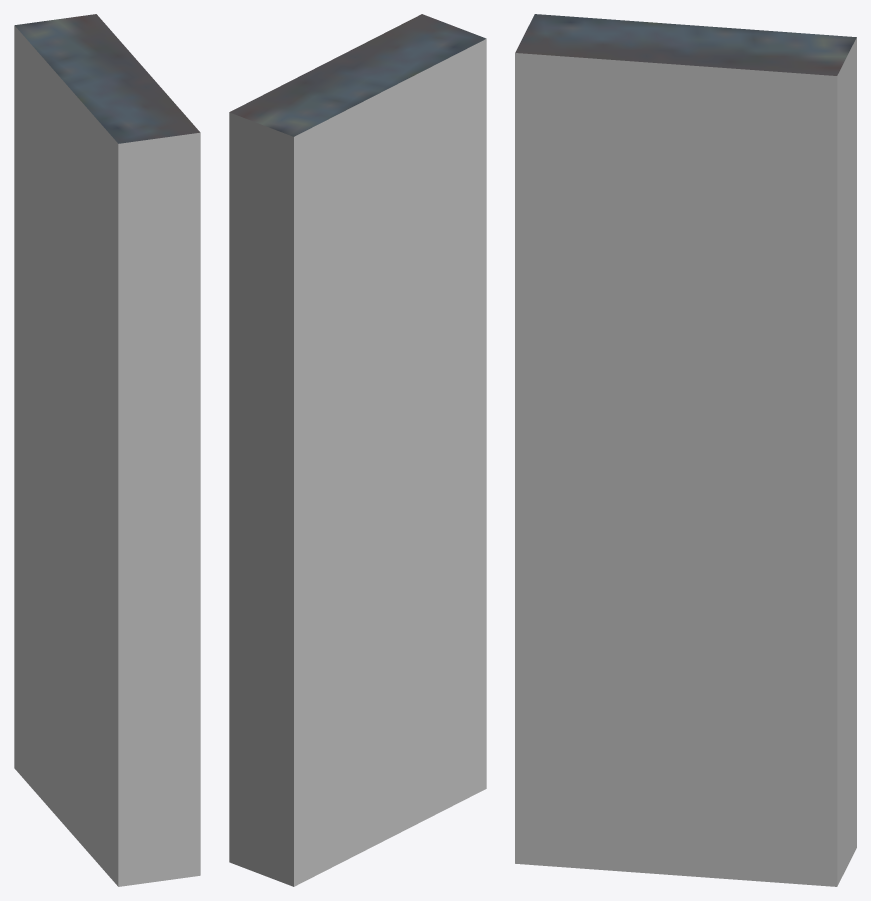
Rendered from DEBW_0010007THXr.gltf.
3 renders of one model, left to right at view 1: azimuth 30°, elevation 25°; view 2: azimuth 150°, elevation 25°; view 3: azimuth 270°, elevation 25°, orthographic. The views are drawn at different scales.
Visible parts, largest first — view 1: Z_UP; view 2: Z_UP; view 3: Z_UP.
Part boxes in pixels (x1,y1,x2,y2): Z_UP: (14, 14, 200, 886); Z_UP: (229, 14, 486, 886); Z_UP: (515, 14, 856, 886).
Bounding box in the file's own units: 2.09 × 12.72 × 4.86.
2 materials, 1 textured.
